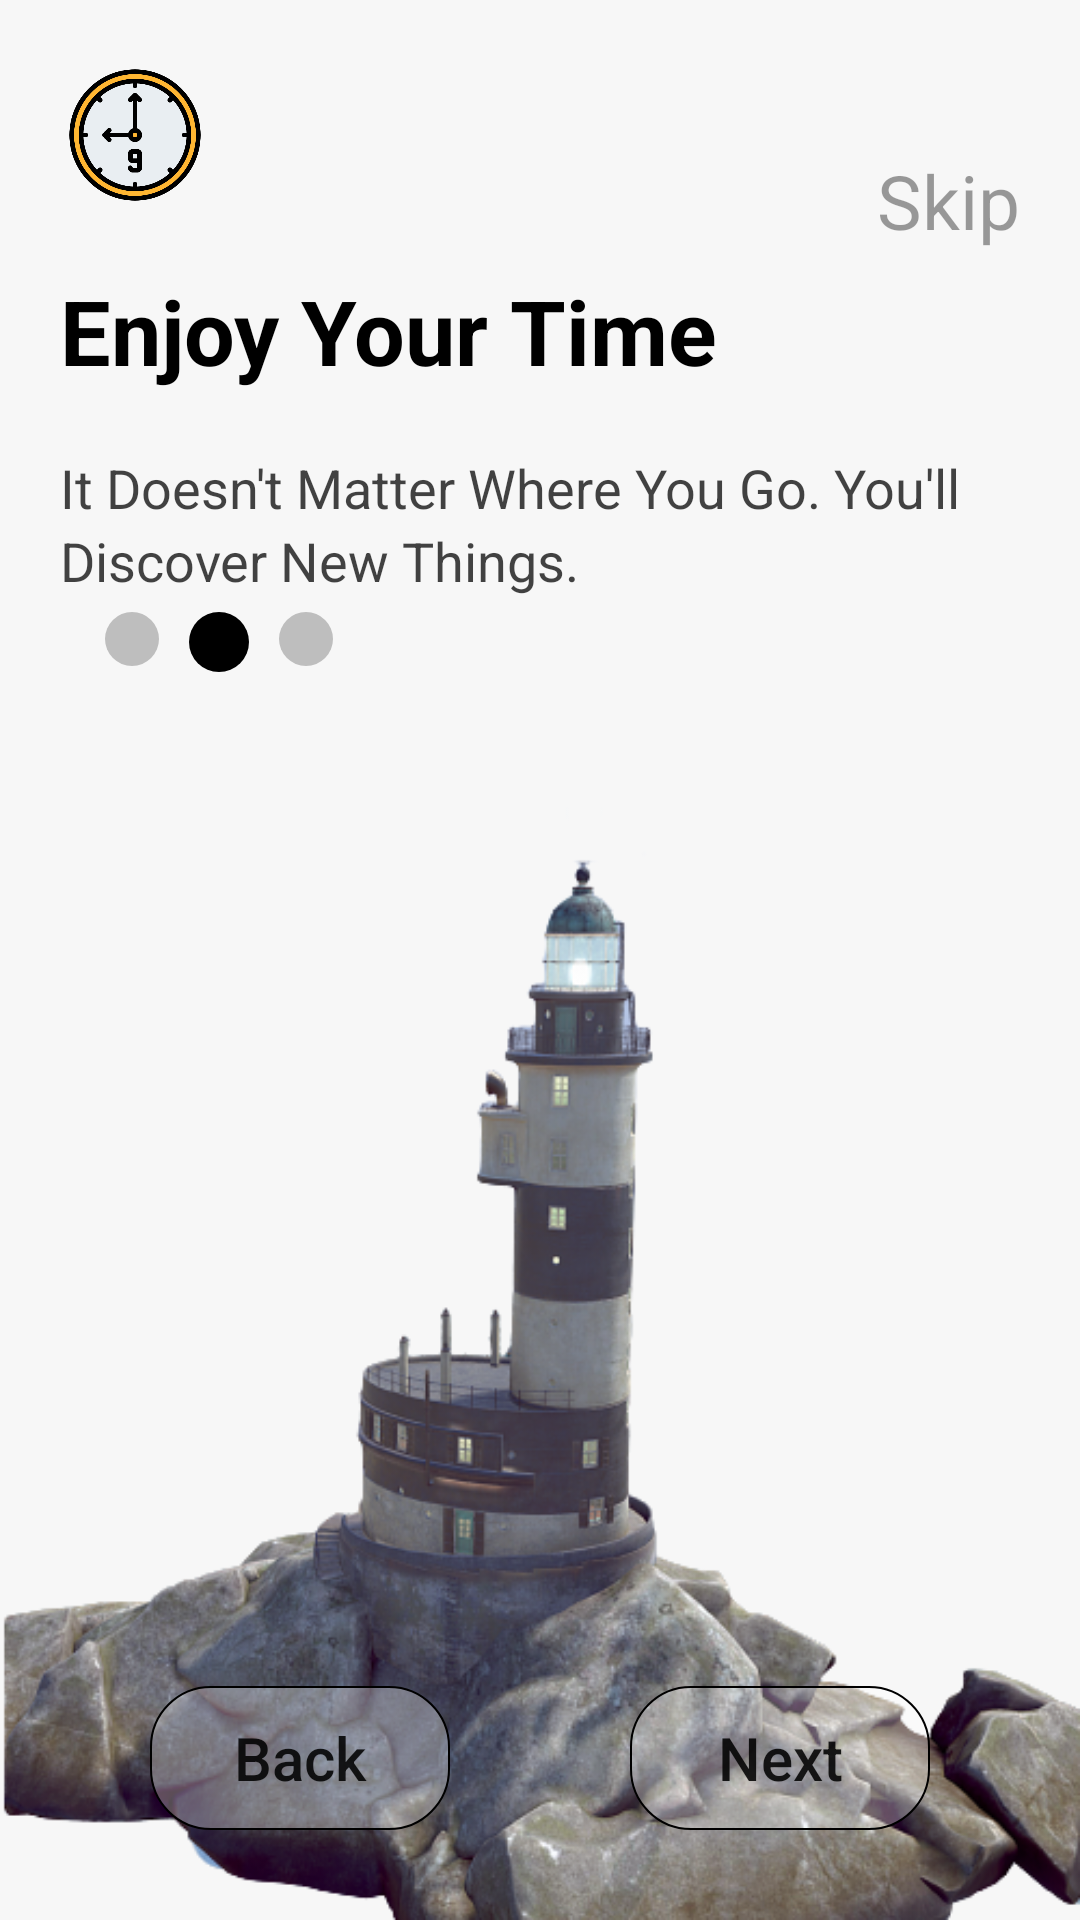

Screen size 1080x1920. Icon name, then its center in pixels as (x,y):
clock: (135,135)
